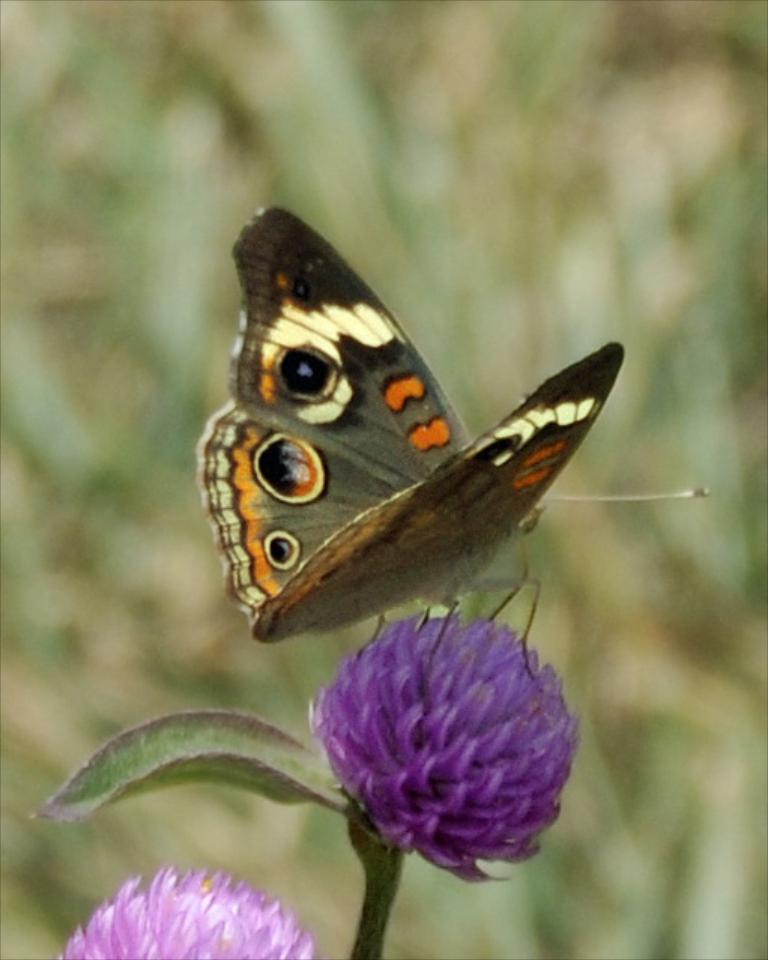Butterfly: (201, 172, 678, 625)
